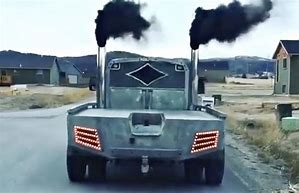smoke: (188, 1, 273, 50), (92, 1, 152, 46)
